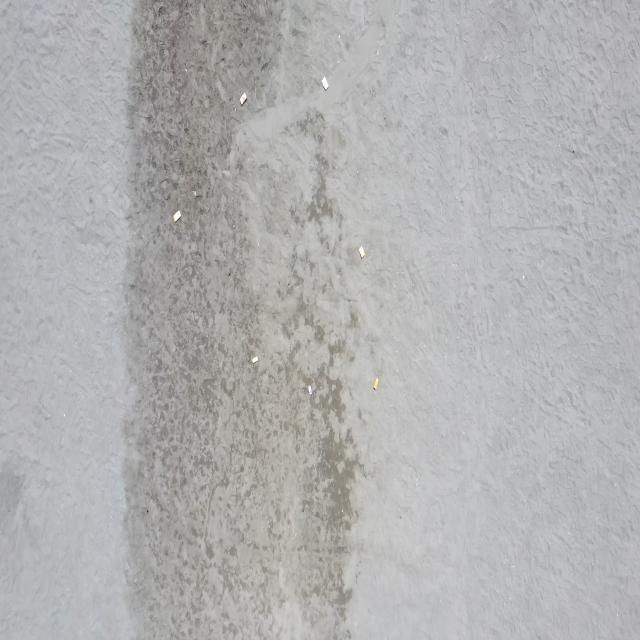retort-pouch: (357, 244, 366, 260), (172, 210, 182, 223), (321, 76, 329, 92), (239, 92, 248, 105), (373, 377, 379, 392), (251, 355, 259, 365), (308, 384, 312, 396)
